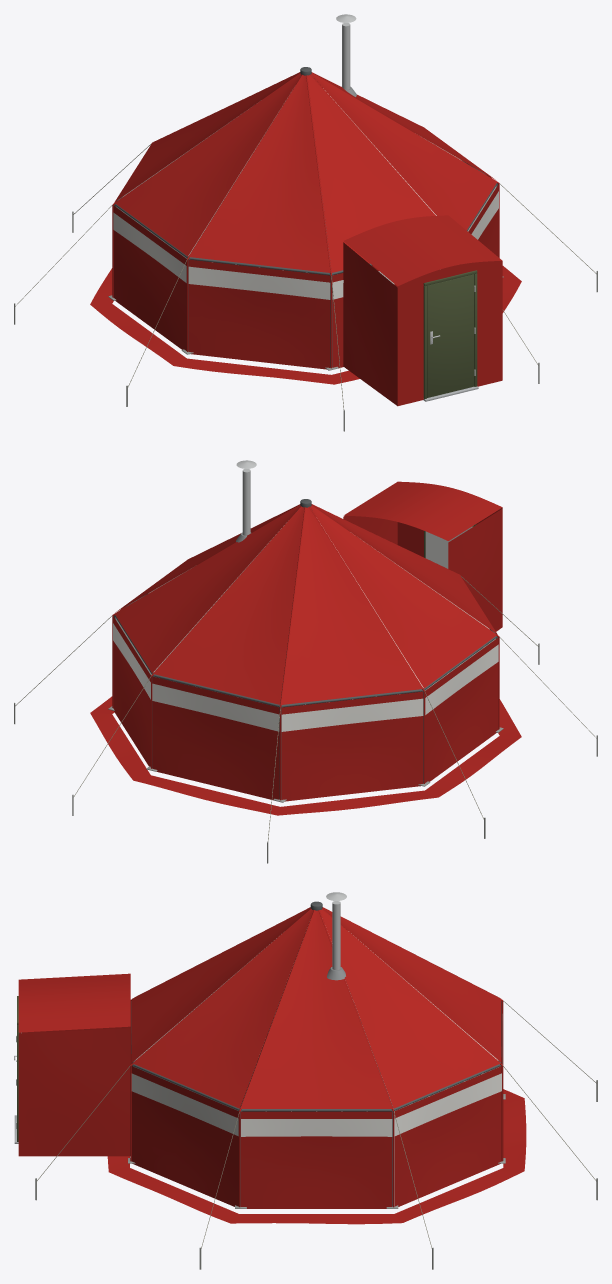
The model's file is polar-chief-deployed.glb.
3 renders of one model, top to bottom at view 1: azimuth 30°, elevation 25°; view 2: azimuth 150°, elevation 25°; view 3: azimuth 270°, elevation 25°, orthographic. The views are drawn at different scales.
Parts seen in each view (by area): view 1: POLARCHIEF_shelter, POLARCHIEF_interior; view 2: POLARCHIEF_shelter, POLARCHIEF_interior; view 3: POLARCHIEF_shelter, POLARCHIEF_interior.
Part boxes in pixels (<box>): POLARCHIEF_shelter: <box>14,14,597,431</box>; POLARCHIEF_interior: <box>116,88,496,272</box>; POLARCHIEF_shelter: <box>14,460,597,863</box>; POLARCHIEF_interior: <box>115,520,495,704</box>; POLARCHIEF_shelter: <box>14,892,597,1269</box>; POLARCHIEF_interior: <box>134,931,498,1205</box>.
Size of the model in its own units: 8.52 by 4.71 by 8.85.
